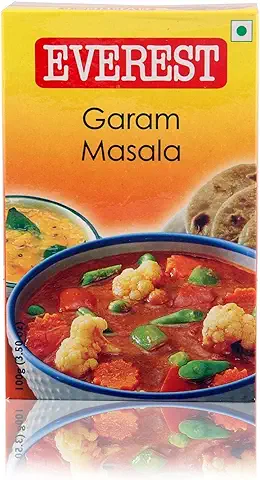Garamasala: (1, 1, 260, 475)
